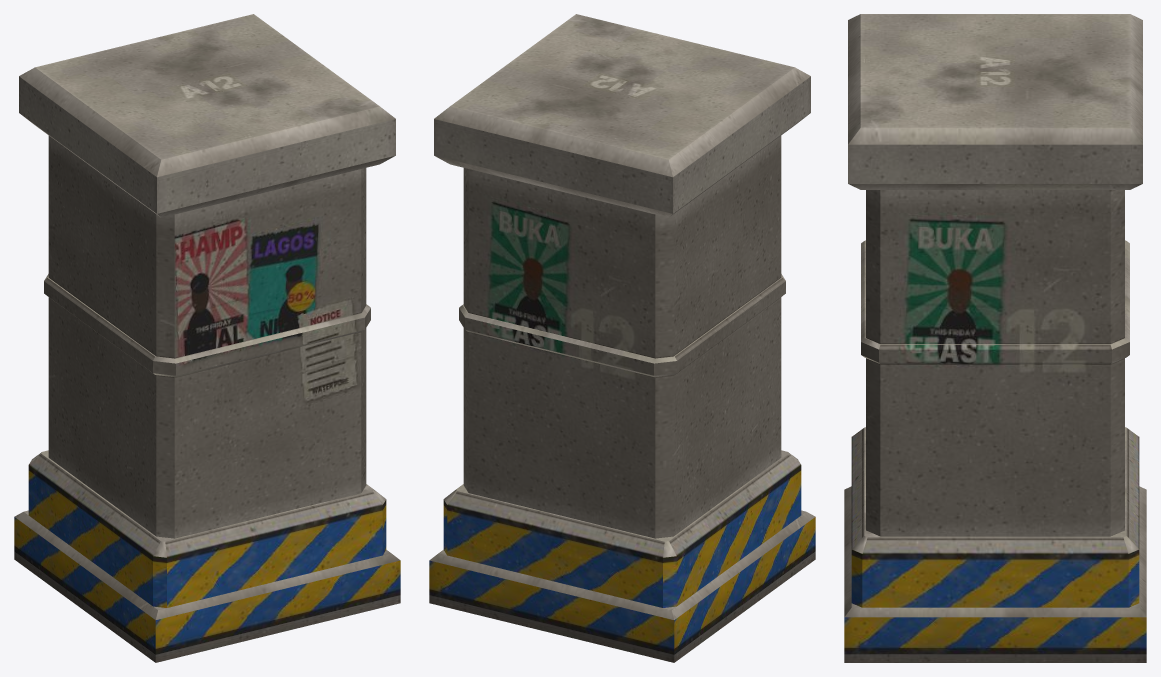
File: prop_pillar_a.glb
The picture shows the model from 3 angles, left to right: view 1: azimuth 30°, elevation 25°; view 2: azimuth 150°, elevation 25°; view 3: azimuth 270°, elevation 25°; orthographic projection. The views are drawn at different scales.
Visible parts, largest first — view 1: prop_pillar_a_body; view 2: prop_pillar_a_body; view 3: prop_pillar_a_body.
Part boxes in pixels (x1=…): prop_pillar_a_body: x1=14, y1=14, x2=400, y2=662; prop_pillar_a_body: x1=429, y1=14, x2=815, y2=662; prop_pillar_a_body: x1=844, y1=14, x2=1146, y2=662.
Bounding box in the file's own units: 0.84 × 1.62 × 0.84.
1 material, 1 textured.
